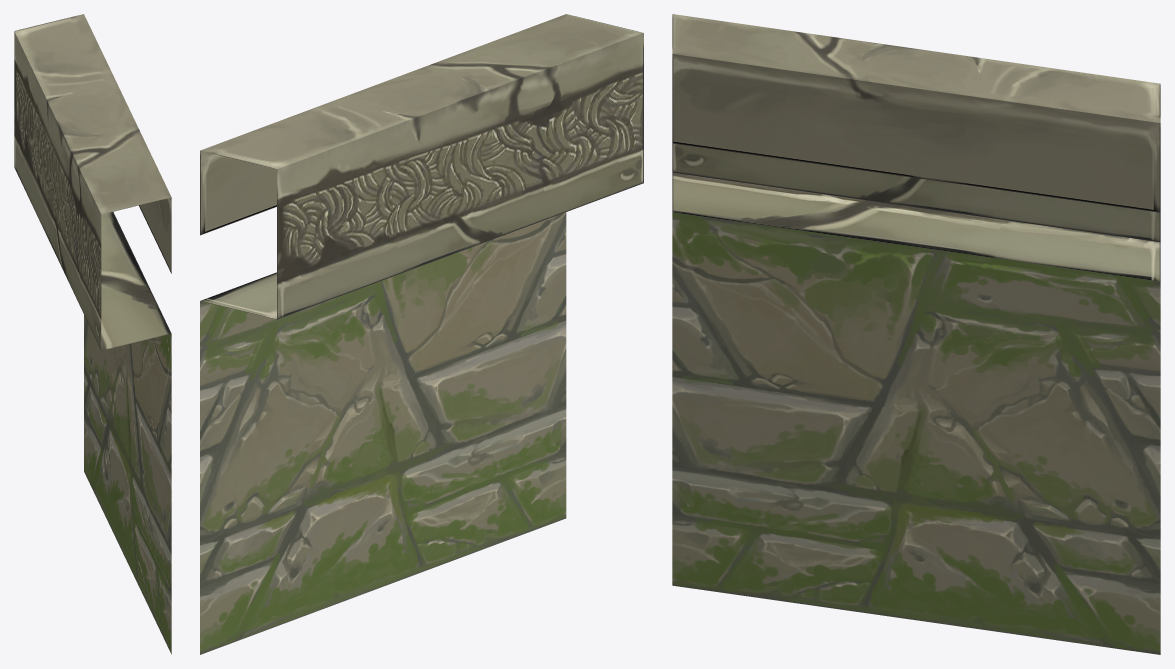
File: longcurve_top1.fbx
3 renders of one model, left to right at view 1: azimuth 30°, elevation 25°; view 2: azimuth 150°, elevation 25°; view 3: azimuth 270°, elevation 25°, orthographic. The views are drawn at different scales.
Visible parts, largest first — view 1: round_tl_1_v; view 2: round_tl_1_v; view 3: round_tl_1_v.
Boxes of the visible parts, box(x1,y1,x2,y2) form: round_tl_1_v: box(14, 14, 171, 654); round_tl_1_v: box(200, 14, 643, 654); round_tl_1_v: box(672, 14, 1160, 654).
Bounding box in the file's own units: 1.06 × 2.4 × 2.
